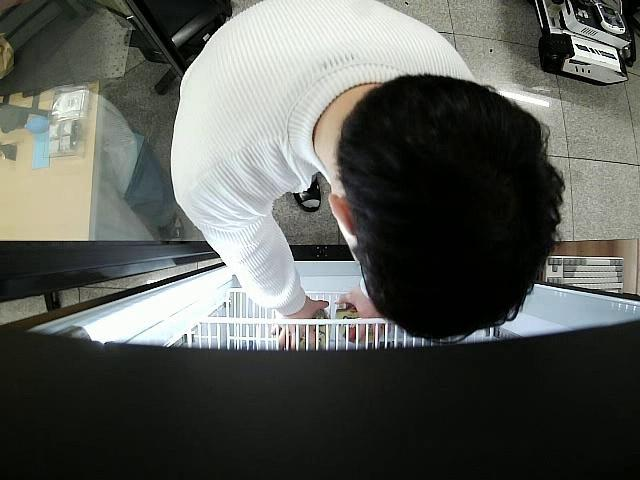03_chapagetti_L: (278, 310, 330, 350), (336, 300, 385, 342)
